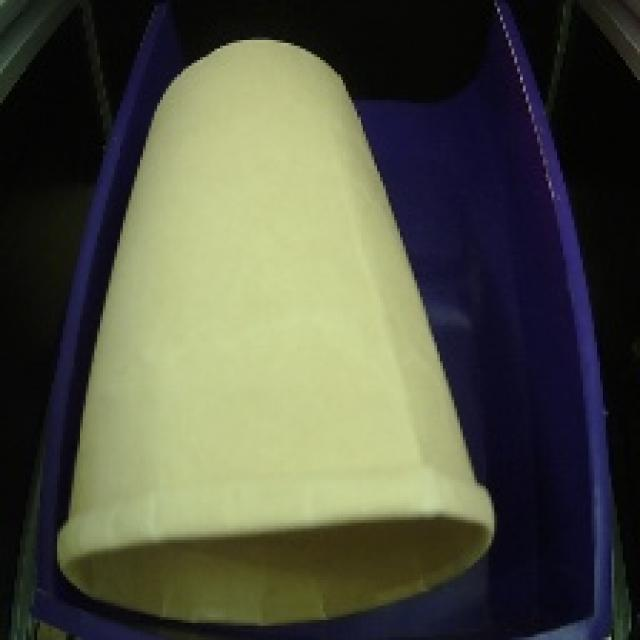cups: (47, 26, 512, 639)
